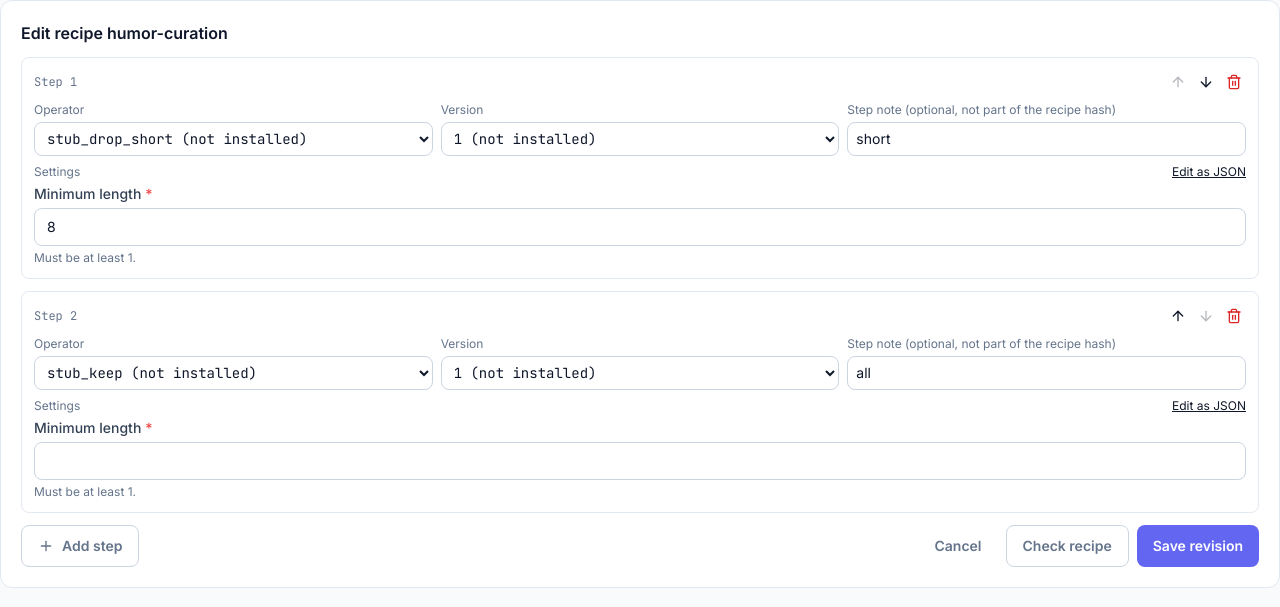
Test: StepRow schema form › "Edit as JSON" switches to the box and back
expect the number of elements with test id "step-schema-form" is 2: met, box [34,184,1246,266]; [34,418,1246,500]
Click the 1st button with test id "params-mode": (1209, 172) [1172,164,1246,180]
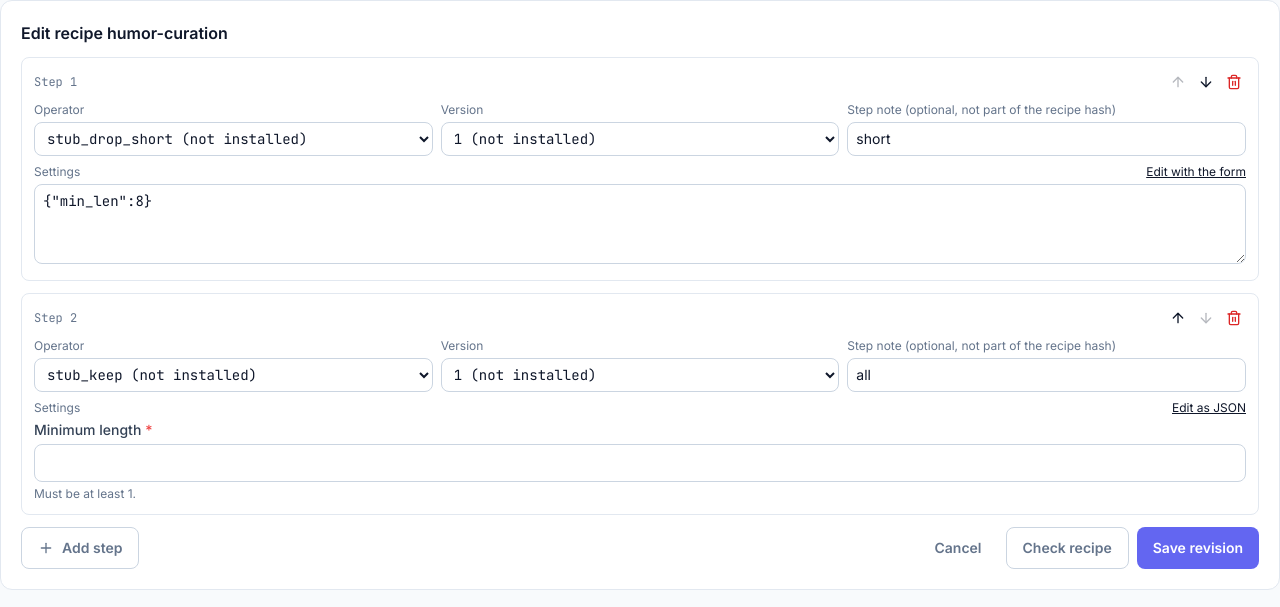
expect the text box named "Parameters (JSON)" holds "{\"min_len\":8}": met, box [34,184,1246,264]
Click the button with test id "params-mode" showing "Edit with the form": (1196, 172) [1146,164,1246,180]
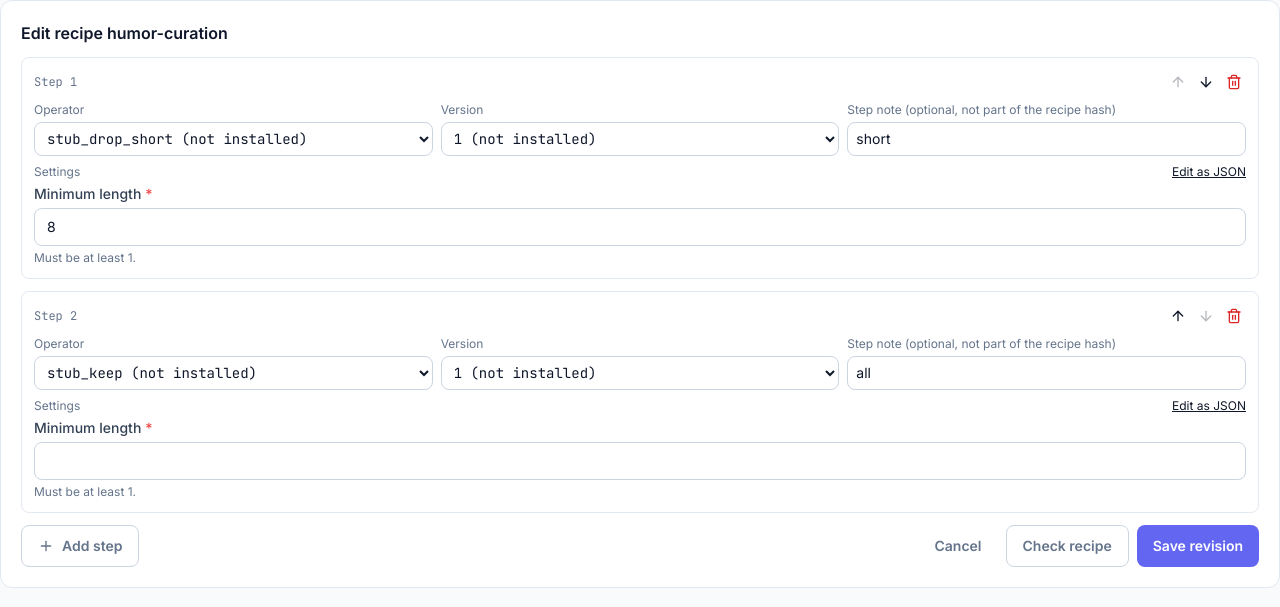
expect the number of elements with test id "step-schema-form" is 2: met, box [34,184,1246,266]; [34,418,1246,500]
